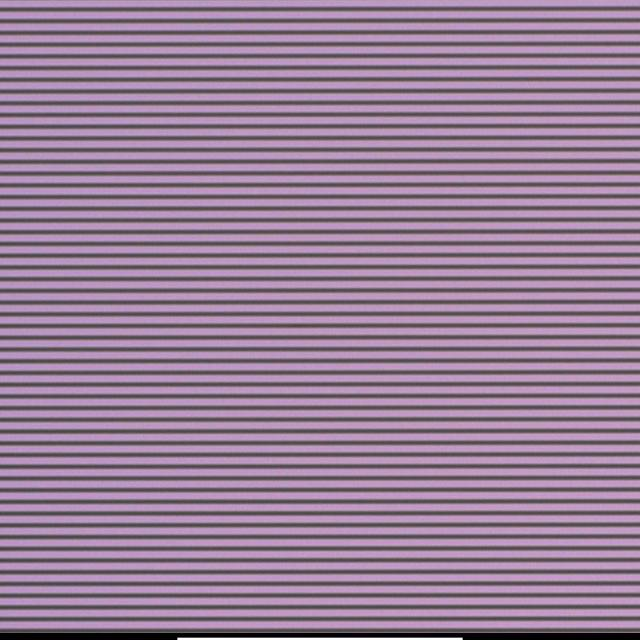nonvisual: (336, 312, 346, 320)
